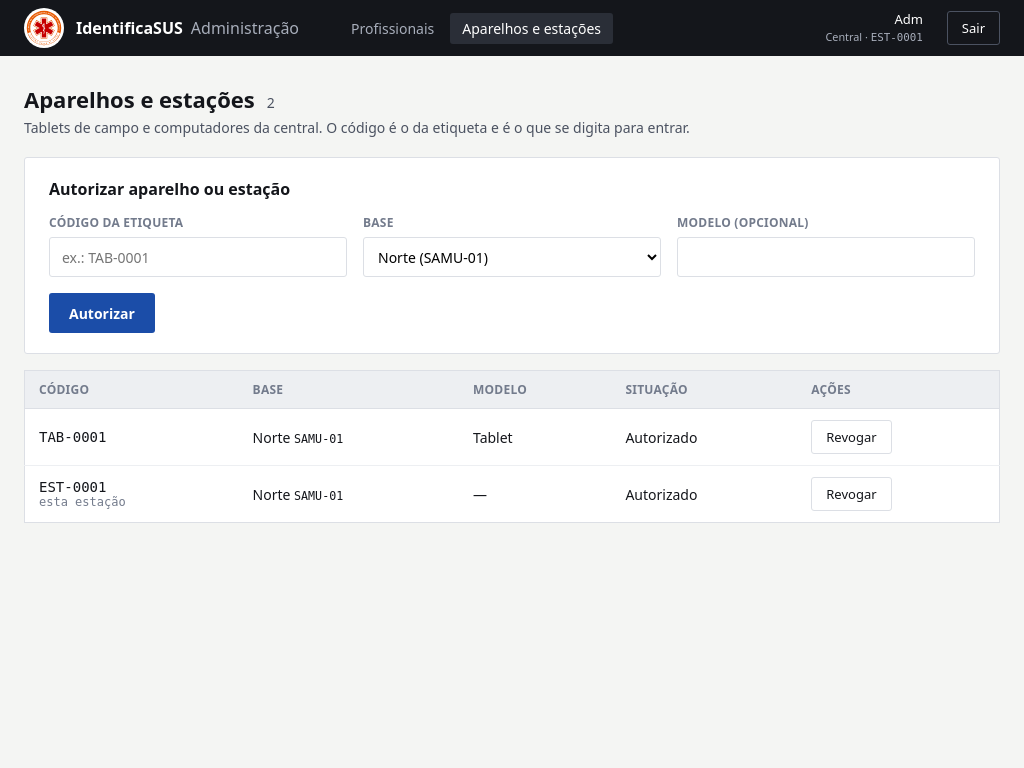
Test: aparelhos e estações › código repetido: mensagem do servidor
The image size is (1024, 768).
Type "TAB-0001" into the field labelled "Código da etiqueta" at (198, 257), box [49, 237, 347, 277]
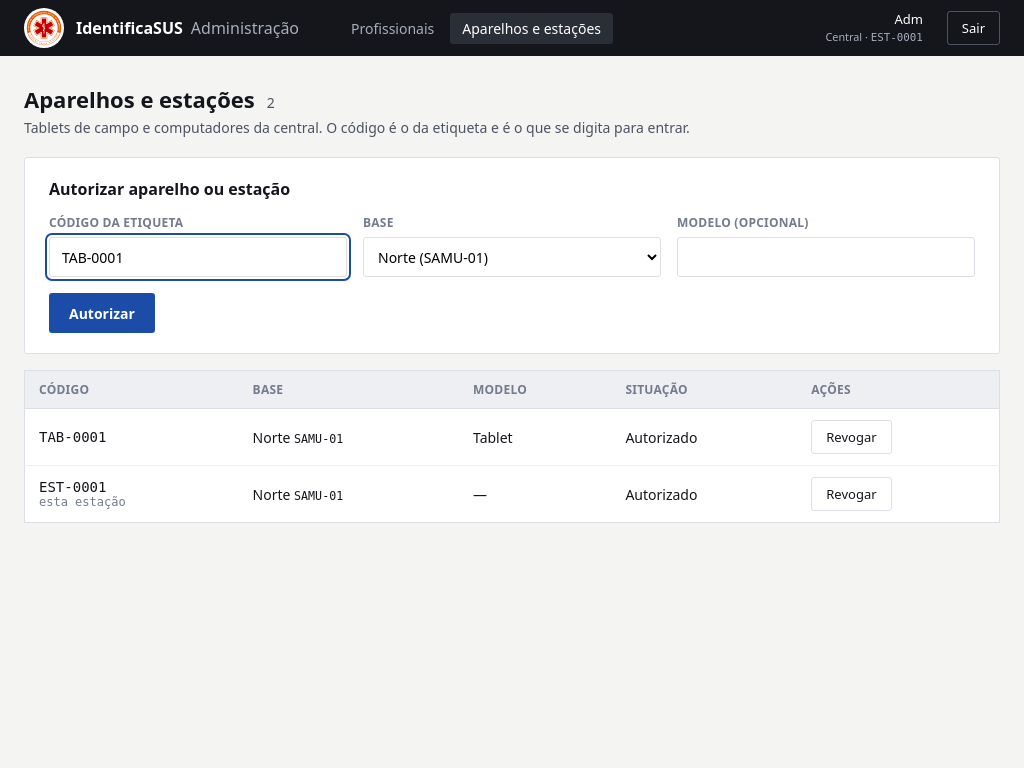
Click the button "Autorizar" at (102, 313), box [49, 293, 155, 333]
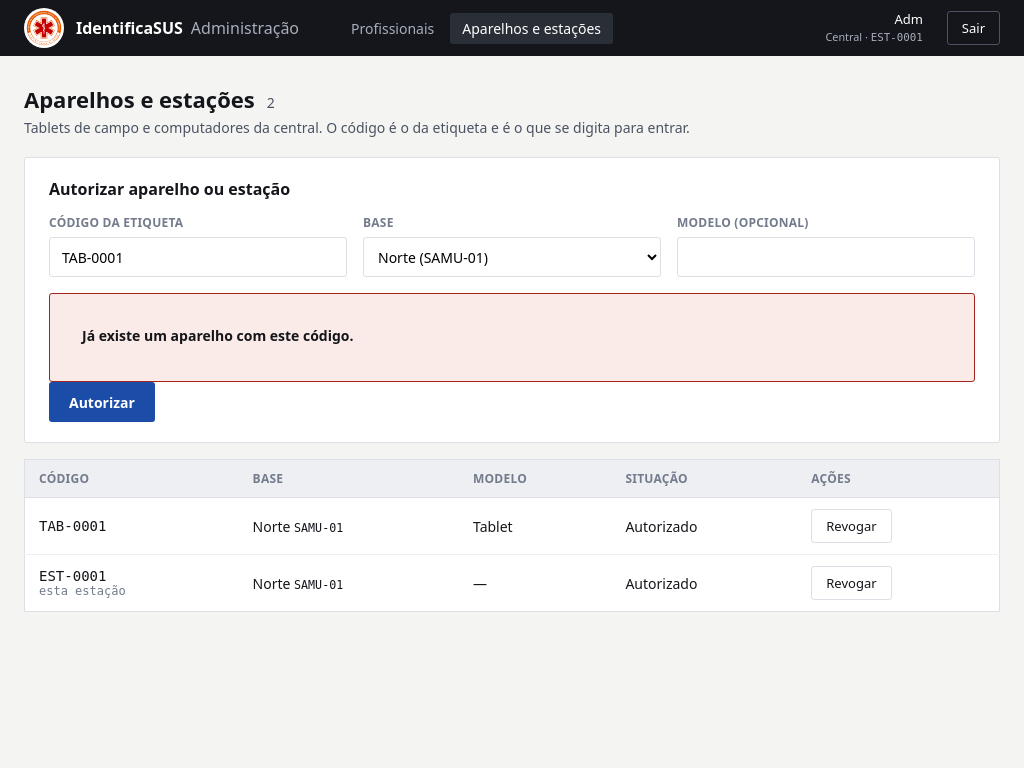
Check: the message reads "Já existe um aparelho com este código.", box [82, 326, 354, 345]
